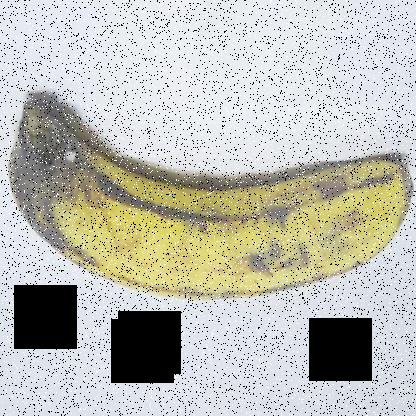overripe: (0, 78, 415, 322)
rotten: (0, 81, 124, 265)
